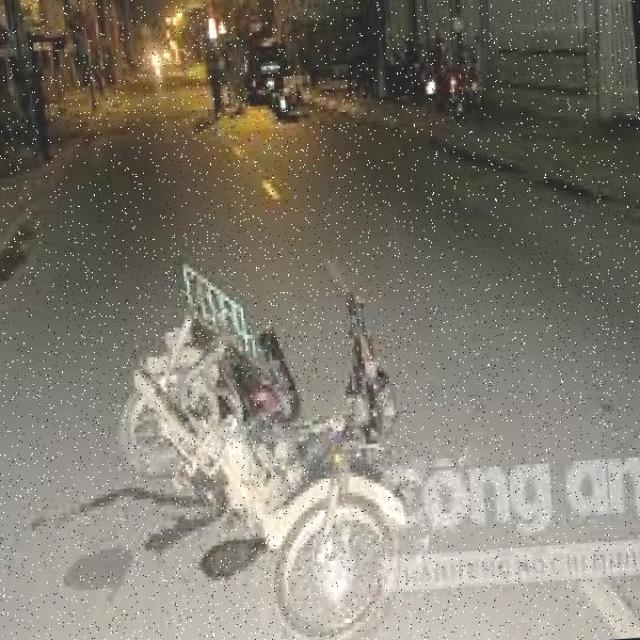accident: (100, 197, 431, 640)
